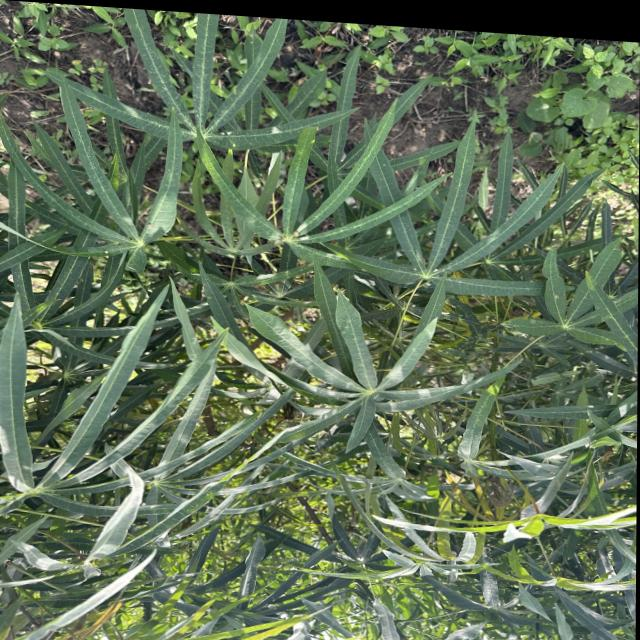Mosca: (218, 122, 237, 158), (305, 129, 327, 155), (381, 210, 398, 242), (98, 236, 117, 263), (423, 266, 441, 293), (477, 380, 494, 404), (98, 102, 107, 121)
